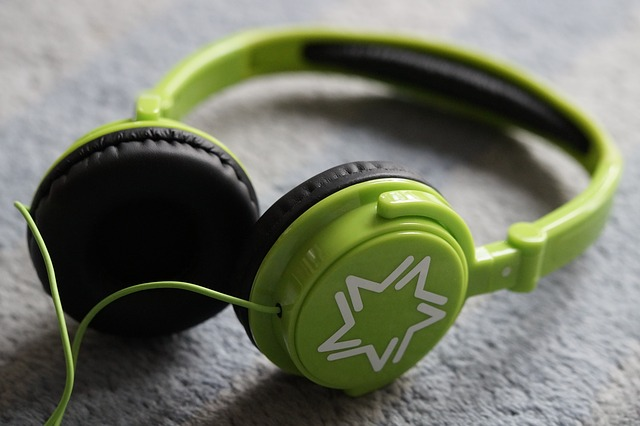headphones: (26, 26, 624, 397)
